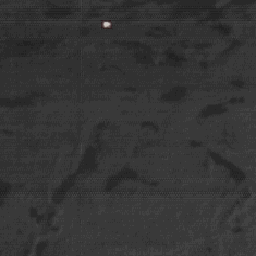Target: (102, 21, 111, 28)
